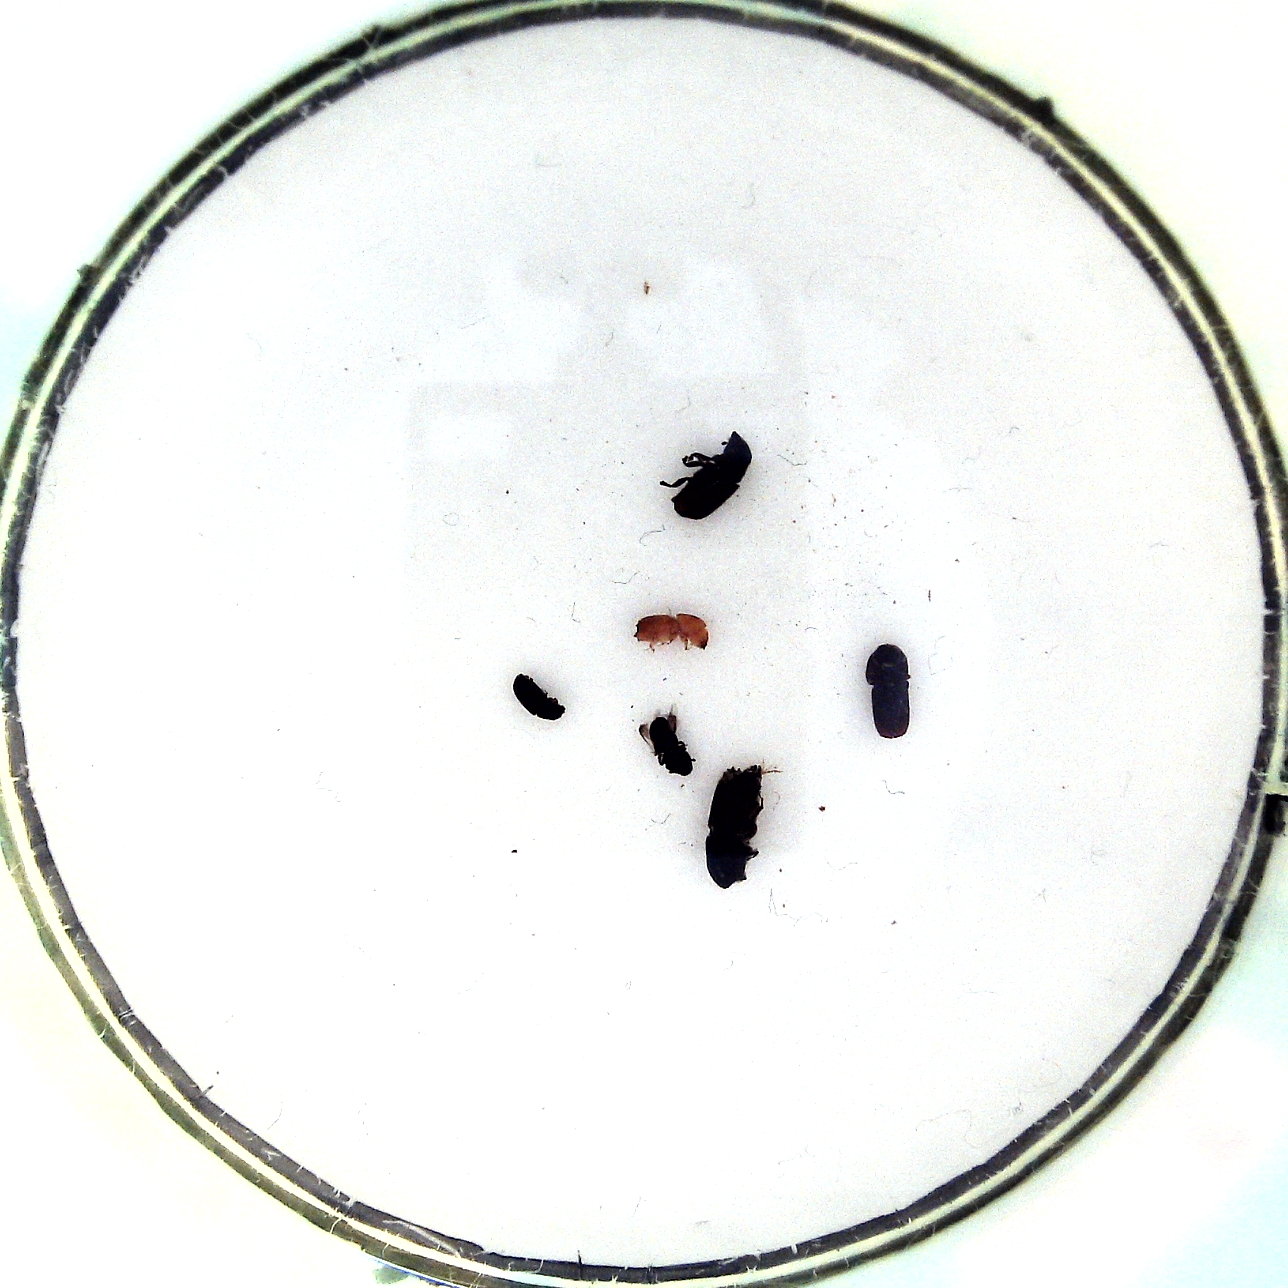Boerner: (701, 760, 782, 896)
Linnaeus: (862, 639, 924, 747)
acuminatus: (629, 602, 715, 657)
armandi: (655, 428, 757, 524)
coleoptera: (637, 701, 696, 782), (505, 669, 576, 727)
